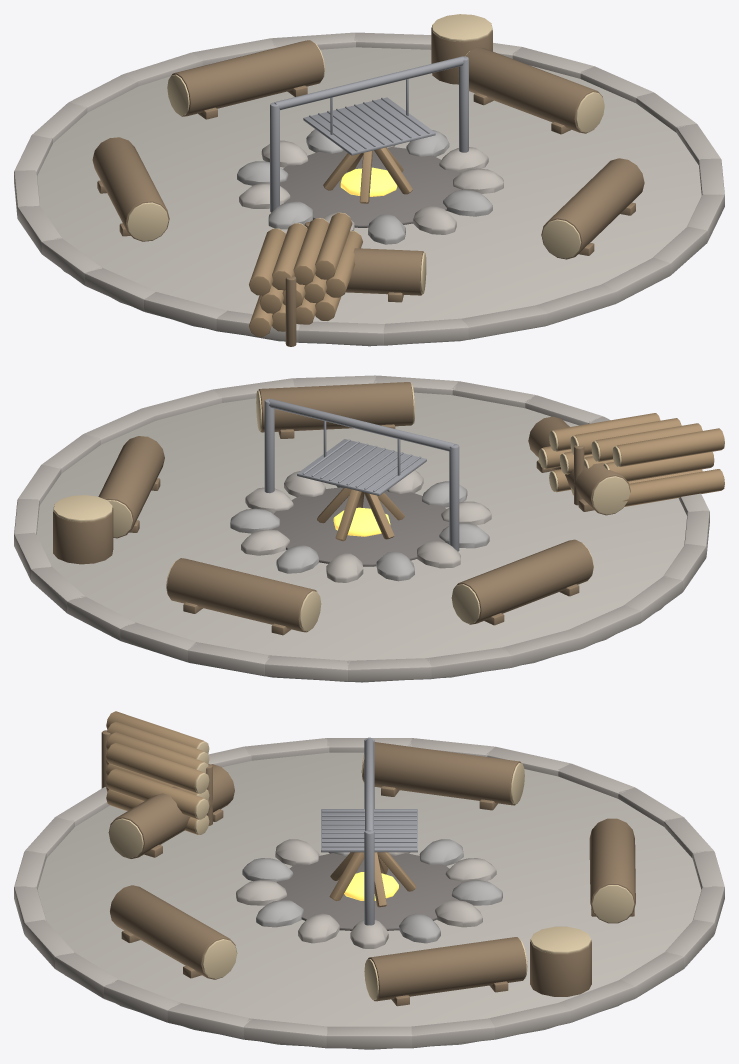
Rendered from th16_grillplatz.glb.
3 views of the same model, one above another, from view 1: azimuth 30°, elevation 25°; view 2: azimuth 150°, elevation 25°; view 3: azimuth 270°, elevation 25° (orthographic). The views are drawn at different scales.
Visible parts, largest first — view 1: Cylinder, Cylinder.001, Cylinder.019, Cylinder.016, Cylinder.028, Cylinder.022, Cube.033, Cylinder.025, Cylinder.004, Cube.017, Cube.018, Cube.019 (+50 smaller); view 2: Cylinder, Cylinder.001, Cylinder.019, Cylinder.028, Cylinder.022, Cube.033, Cylinder.016, Cylinder.057, Cylinder.047, Cylinder.031, Cylinder.025, Cube.009 (+49 smaller); view 3: Cylinder, Cylinder.001, Cylinder.016, Cylinder.022, Cylinder.028, Cylinder.019, Cylinder.025, Cube.033, Cylinder.057, Cylinder.053, Cube, Cube.001 (+47 smaller).
Part boxes in pixels (x1,y1,x2,y2): Cylinder: (37,47,701,346); Cylinder.001: (280,147,461,227); Cylinder.019: (171,40,324,116); Cylinder.016: (465,47,602,133); Cylinder.028: (541,158,644,259); Cylinder.022: (92,137,169,241); Cube.033: (303,97,435,155); Cylinder.025: (345,248,423,295); Cylinder.004: (274,56,464,110); Cube.017: (298,321,384,345); Cube.018: (383,318,468,345); Cube.019: (461,305,547,339); Cylinder: (36,392,686,682); Cylinder.001: (271,487,449,566); Cylinder.019: (167,558,316,632); Cylinder.028: (258,382,413,432); Cylinder.022: (453,539,593,624); Cube.033: (297,439,426,495); Cylinder.016: (98,436,164,538); Cylinder.057: (53,507,113,564); Cylinder.047: (617,428,724,466); Cylinder.031: (623,469,724,506); Cylinder.025: (528,416,630,515); Cube.009: (347,658,431,681); Cylinder: (37,752,701,1049); Cylinder.001: (277,853,461,930); Cylinder.016: (368,937,526,1001); Cylinder.022: (363,742,521,805); Cylinder.028: (110,885,237,979); Cylinder.019: (589,818,635,923); Cylinder.025: (108,764,234,858); Cube.033: (321,809,417,852); Cylinder.057: (530,941,591,996); Cylinder.053: (106,742,205,793); Cube: (326,1026,412,1048); Cube.001: (411,1018,495,1048).
Bounding box in the file's own units: 6.82 × 1.32 × 6.87.
